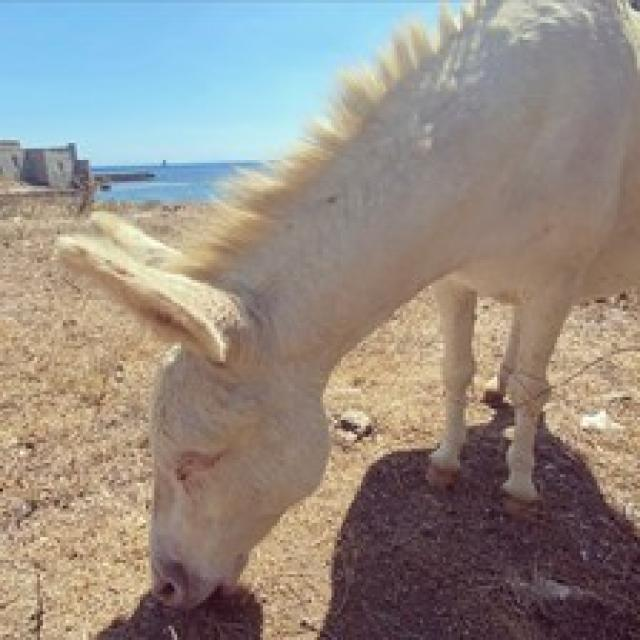Donkey: (51, 0, 637, 614)
